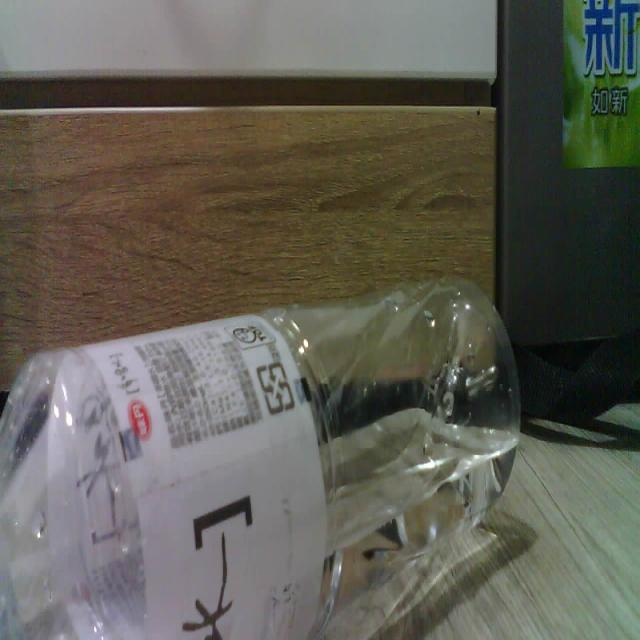bottle: (0, 278, 520, 639)
